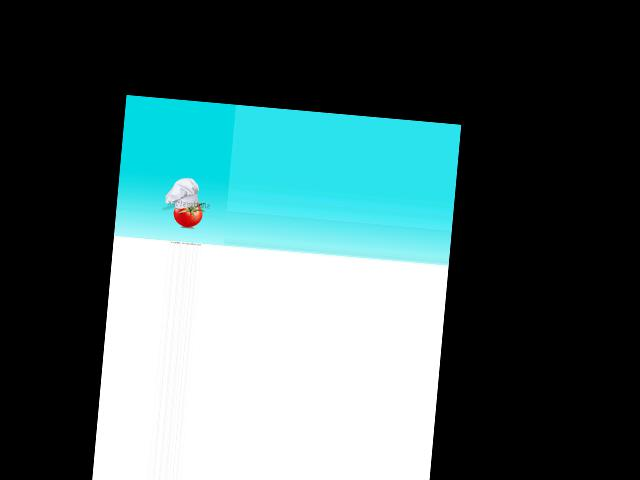tomato: (172, 201, 202, 227)
